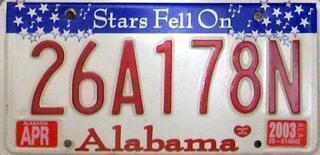placa de veiculo: (7, 1, 317, 154)
